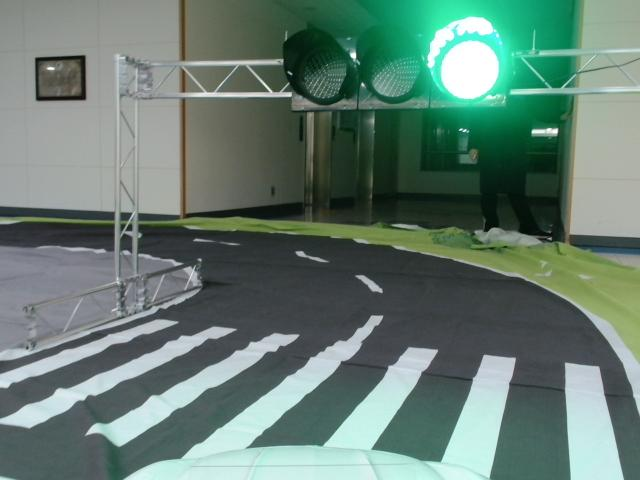crosswalk: (1, 317, 624, 480)
traffic light-green-: (285, 19, 508, 109)
